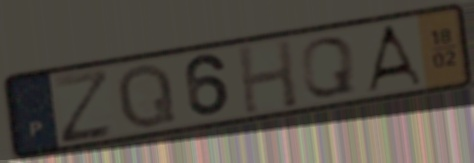6: (182, 52, 232, 121)
A: (361, 21, 426, 94)
H: (234, 36, 301, 117)
Q: (115, 60, 180, 131), (298, 34, 358, 99)
Z: (50, 65, 116, 147)
